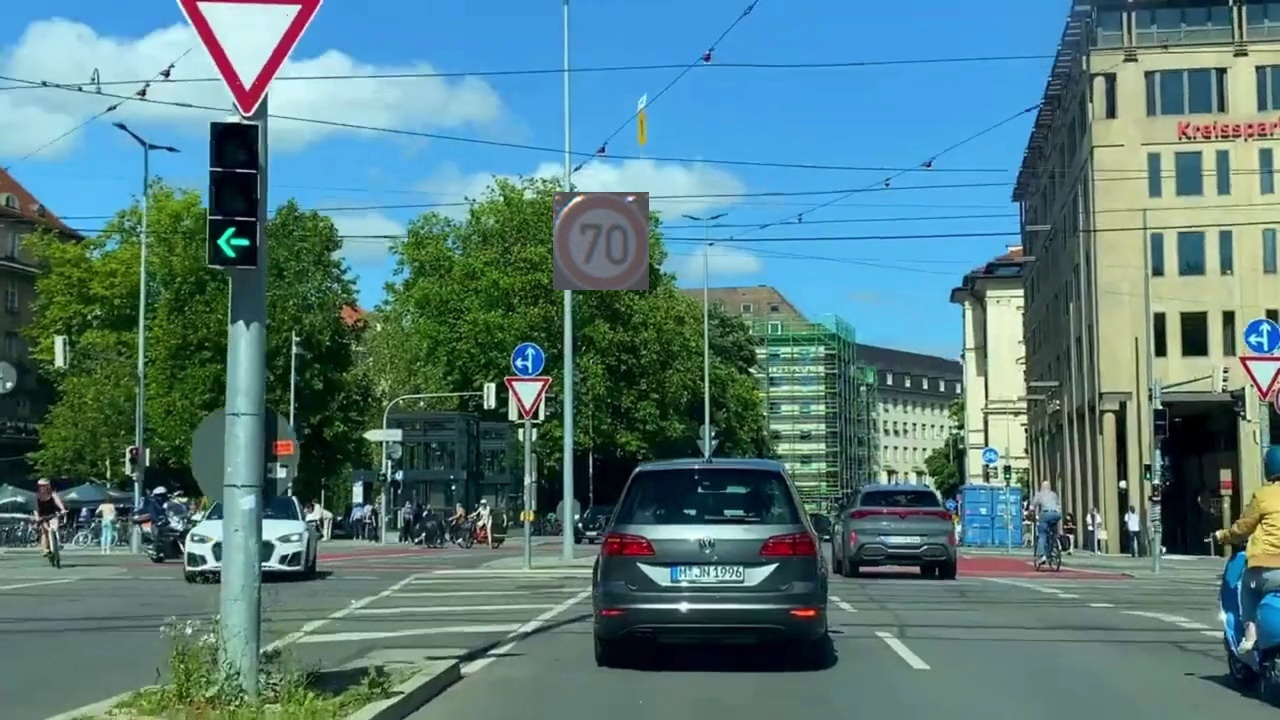Speed 70: (553, 192, 649, 290)
